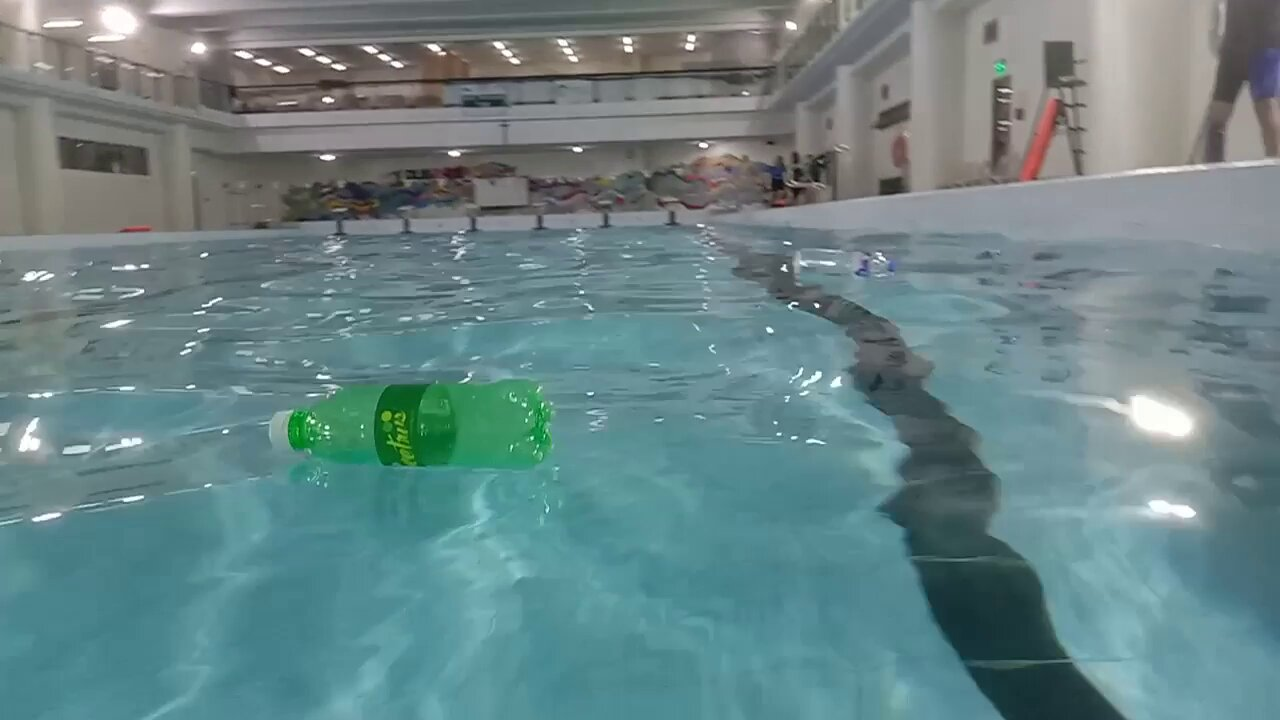plastic_bottle: (267, 380, 555, 469), (787, 247, 898, 282)
